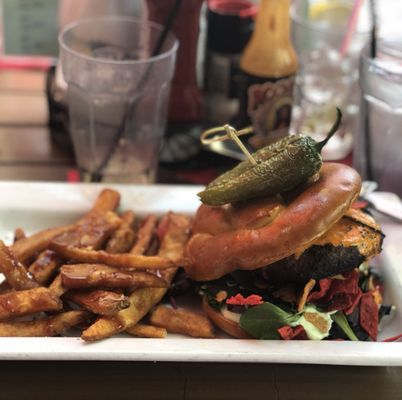soup: (179, 137, 389, 342)
